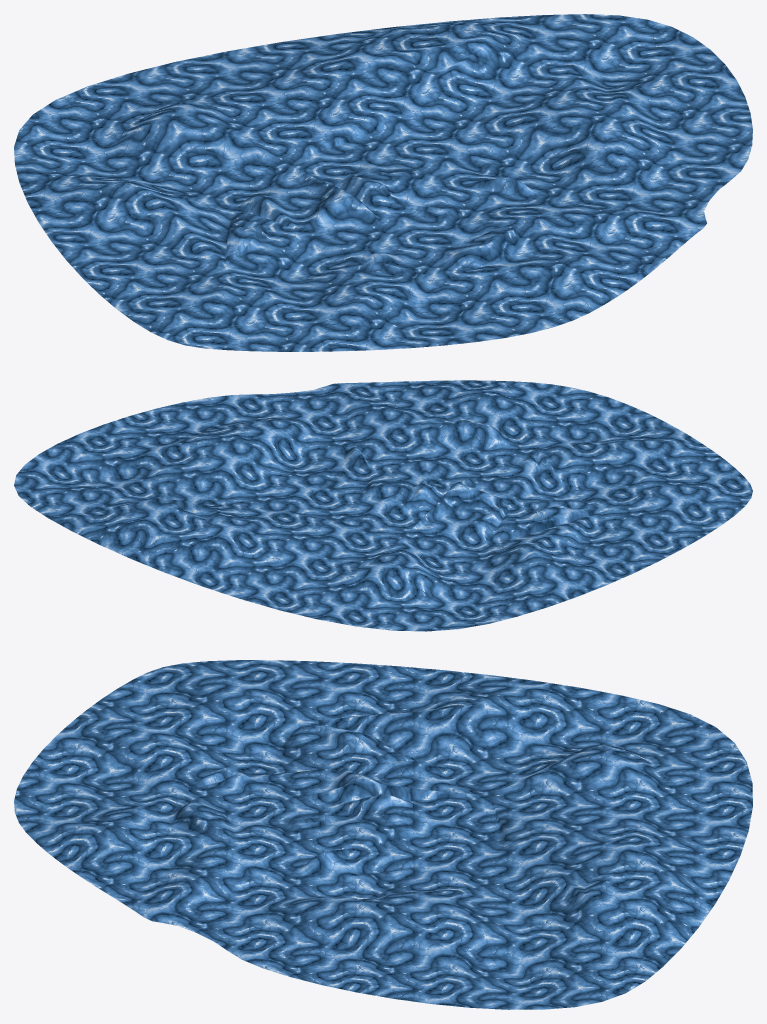
File: enviro.FBX
The picture shows the model from 3 angles, top to bottom: view 1: azimuth 30°, elevation 25°; view 2: azimuth 150°, elevation 25°; view 3: azimuth 270°, elevation 25°; orthographic projection. The views are drawn at different scales.
Parts seen in each view (by area): view 1: Line001; view 2: Line001; view 3: Line001.
Boxes of the visible parts, x1,y1,x2,y2 form: Line001: [14, 14, 752, 351]; Line001: [14, 380, 752, 631]; Line001: [14, 660, 752, 1009].
Bounding box in the file's own units: 763 × 32.68 × 681.
